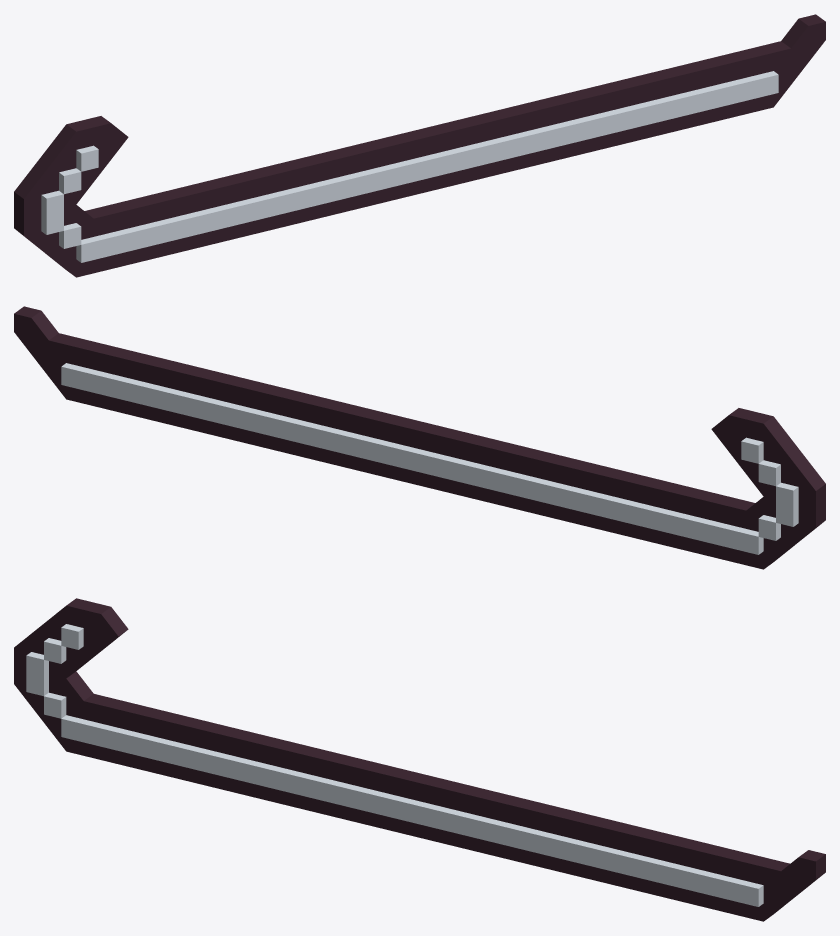
Rendered from Crowbar.fbx.
3 renders of one model, top to bottom at view 1: azimuth 30°, elevation 25°; view 2: azimuth 150°, elevation 25°; view 3: azimuth 330°, elevation 25°, orthographic.
Parts seen in each view (by area): view 1: generated; view 2: generated; view 3: generated.
Part boxes in pixels (bbox=[...]): generated: bbox=[14, 14, 825, 277]; generated: bbox=[14, 306, 825, 569]; generated: bbox=[14, 598, 825, 921].
Size of the model in its own units: 1840 by 320 by 80.
